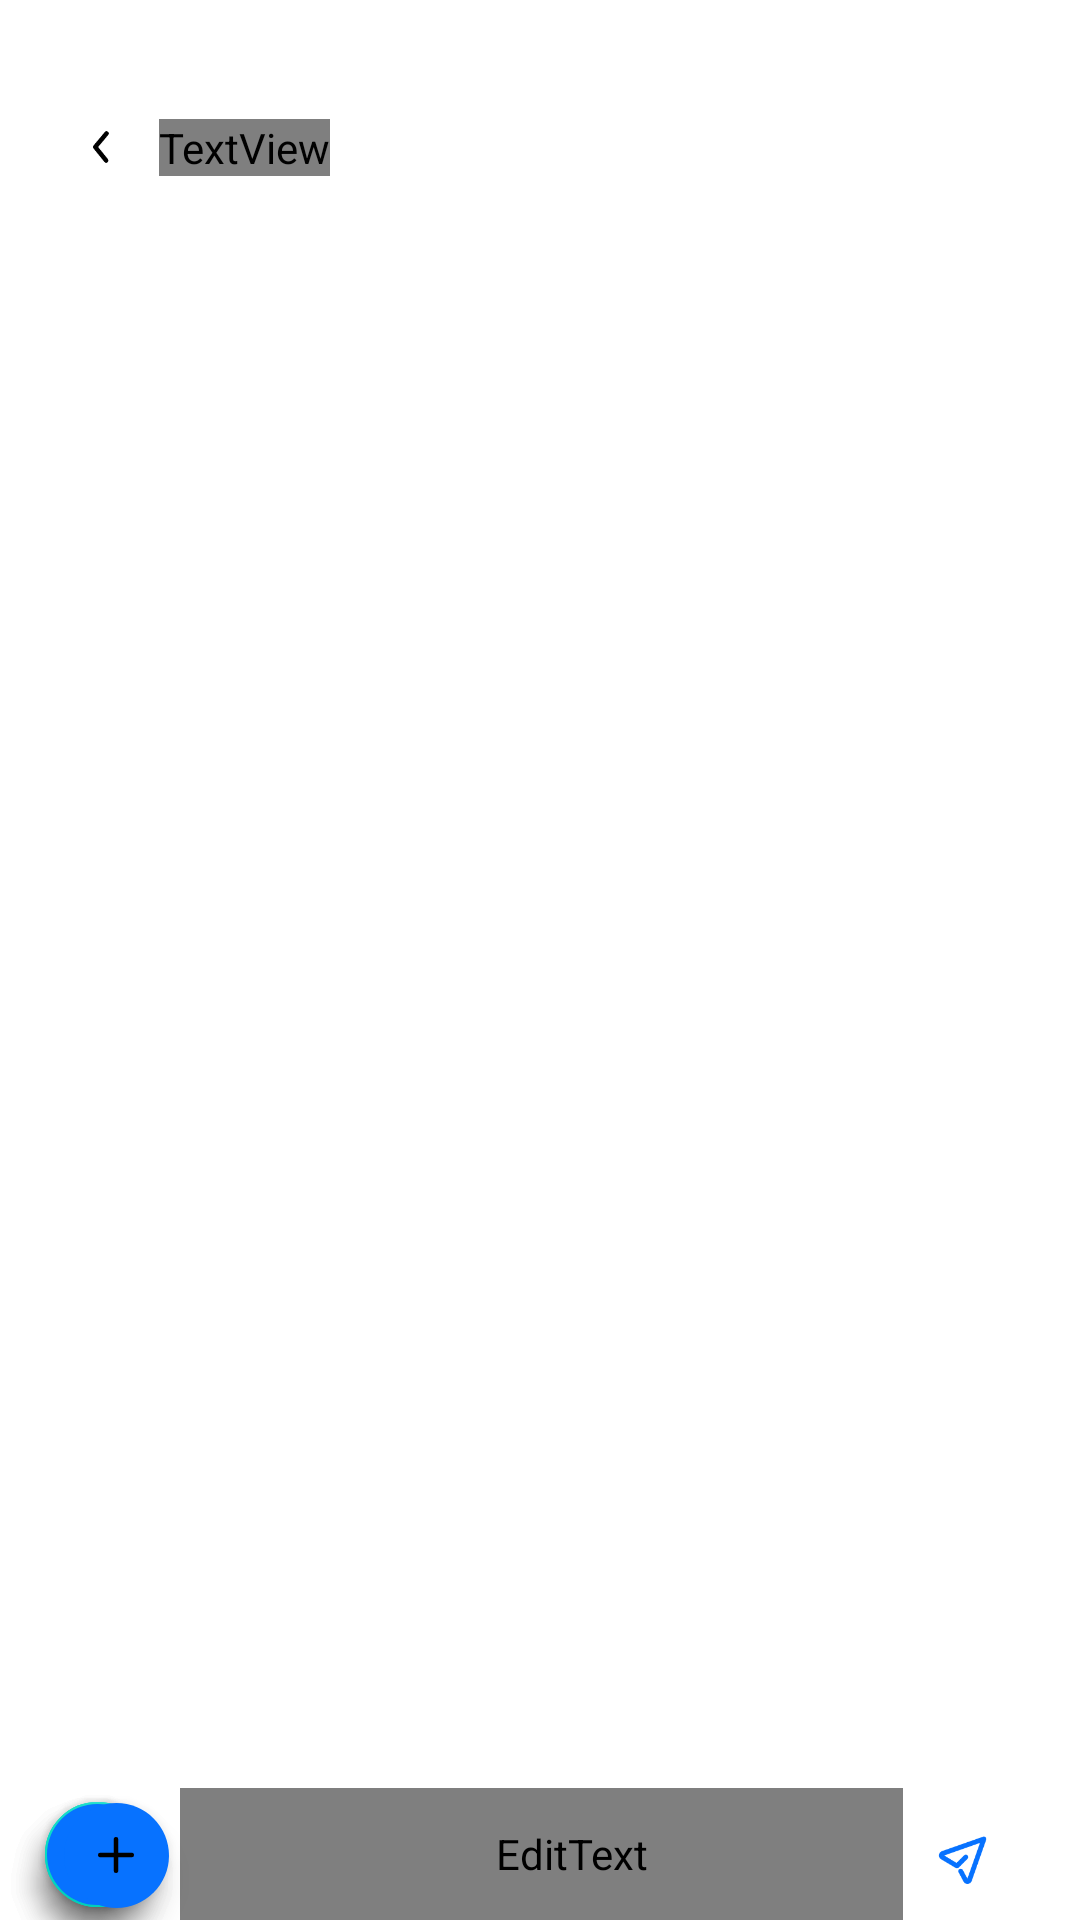

Point at icon controls on the screen. Image size 1080*1920, points as (x,y).
back: (101,147)
chatting plus open: (116,1854)
commentgallery send: (962,1860)
